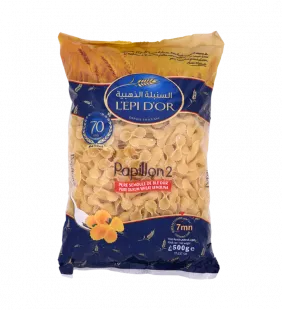L'EPI D'OR: (52, 20, 236, 285)
